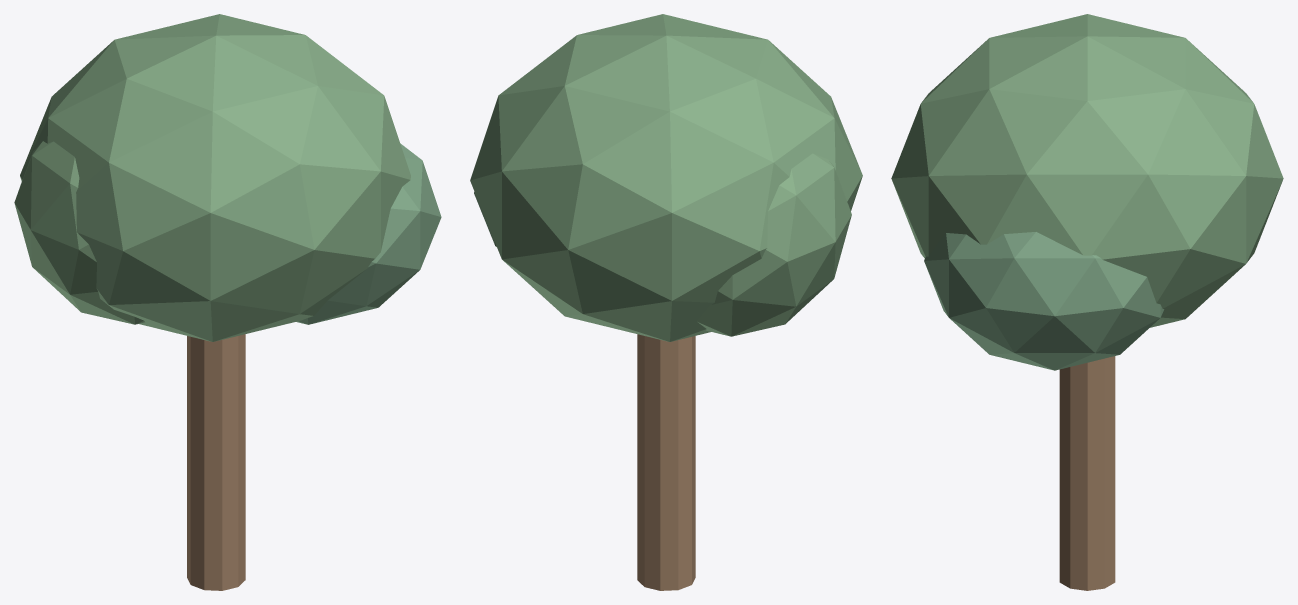
File: tree_lush_edge.glb
3 views of the same model, side by side, from view 1: azimuth 30°, elevation 25°; view 2: azimuth 150°, elevation 25°; view 3: azimuth 270°, elevation 25° (orthographic).
Parts seen in each view (by area): view 1: tree_lush_edge_1, tree_lush_edge_0, tree_lush_edge_3, tree_lush_edge_2; view 2: tree_lush_edge_1, tree_lush_edge_0, tree_lush_edge_3; view 3: tree_lush_edge_1, tree_lush_edge_2, tree_lush_edge_0.
Boxes of the visible parts, bbox=[...] form: tree_lush_edge_1: bbox=[20, 14, 410, 341]; tree_lush_edge_0: bbox=[187, 334, 245, 590]; tree_lush_edge_3: bbox=[14, 141, 144, 324]; tree_lush_edge_2: bbox=[296, 143, 441, 324]; tree_lush_edge_1: bbox=[470, 14, 862, 341]; tree_lush_edge_0: bbox=[637, 334, 695, 590]; tree_lush_edge_3: bbox=[697, 153, 851, 336]; tree_lush_edge_1: bbox=[891, 14, 1283, 327]; tree_lush_edge_2: bbox=[924, 232, 1164, 370]; tree_lush_edge_0: bbox=[1059, 356, 1115, 590].
Bounding box in the file's own units: 2.6 × 3.66 × 2.4.
